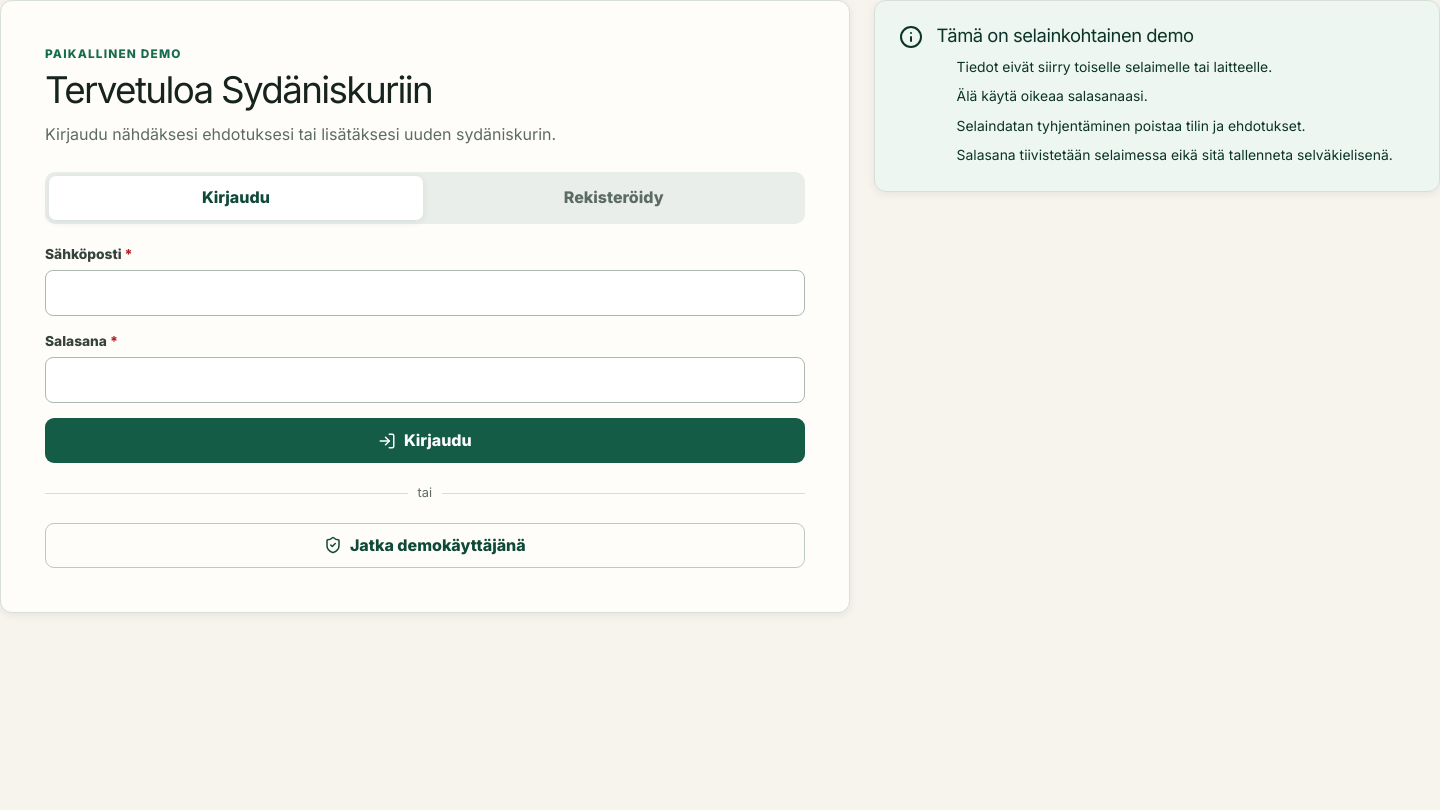
Test: AuthPanel › shows registration errors beside the form
The image size is (1440, 810).
Click the button "Rekisteröidy" at (614, 198), box left=427, top=176, right=801, bottom=220
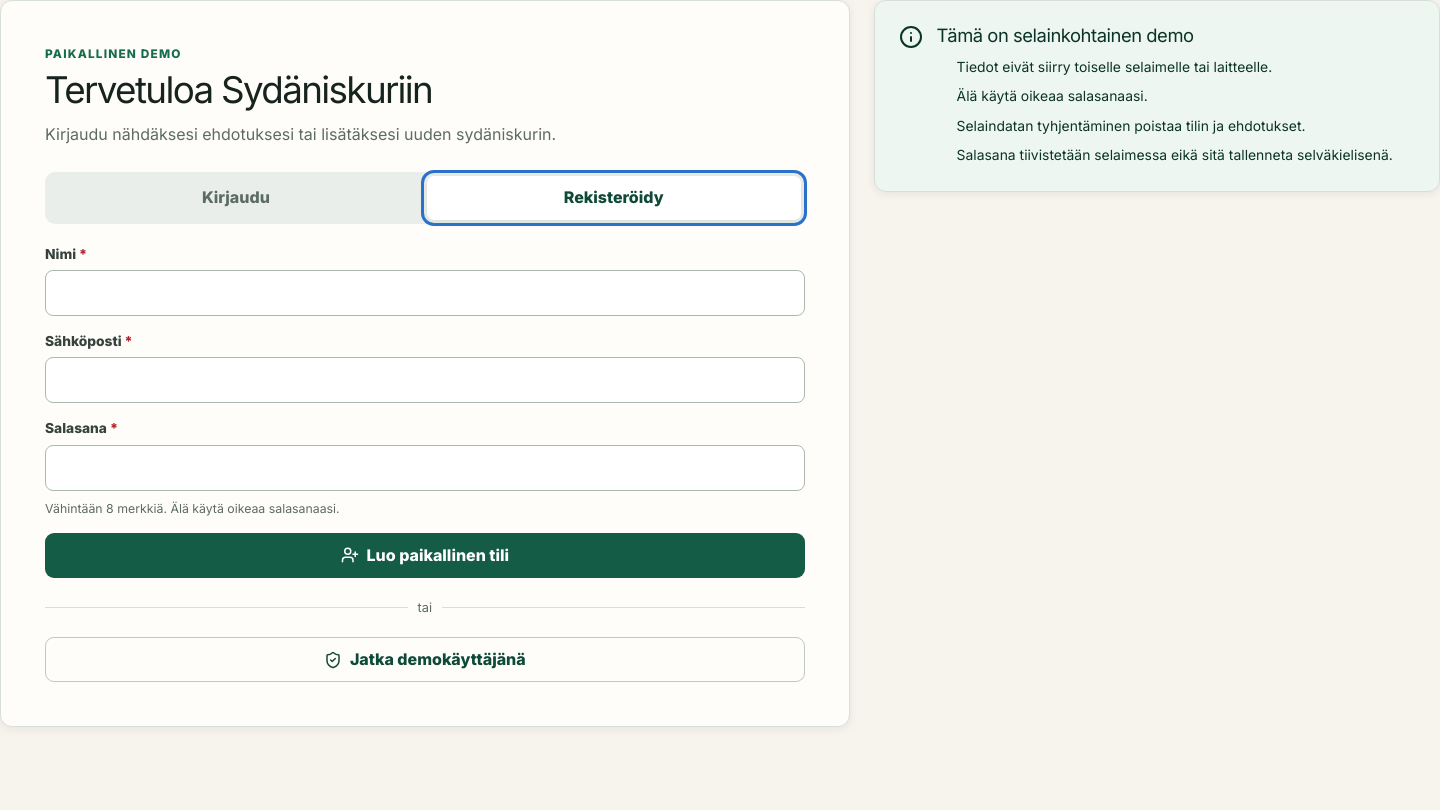
Click the button "Luo paikallinen tili" at (425, 555), box left=45, top=533, right=805, bottom=578
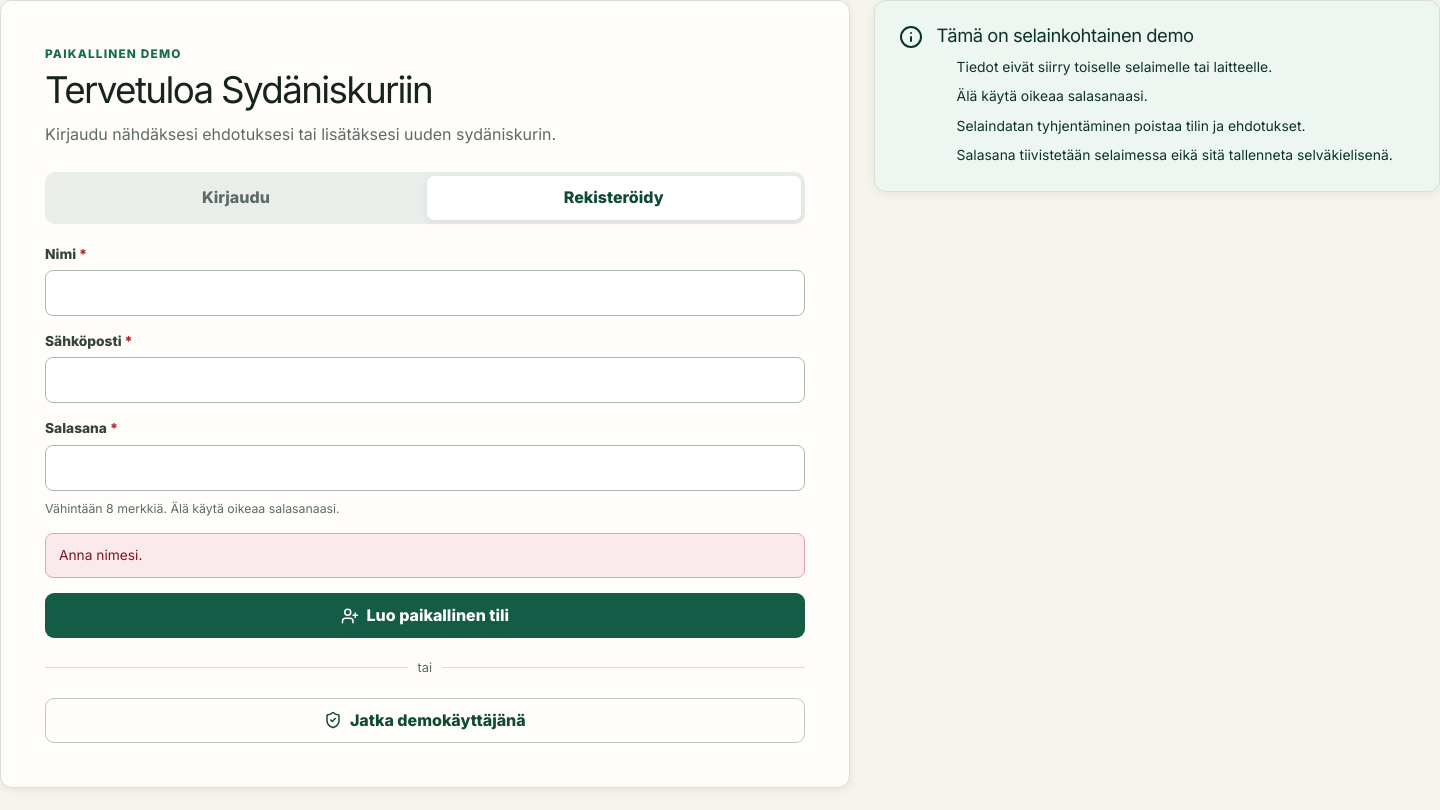
Now the message shows "Anna nimesi", box left=59, top=547, right=142, bottom=563
